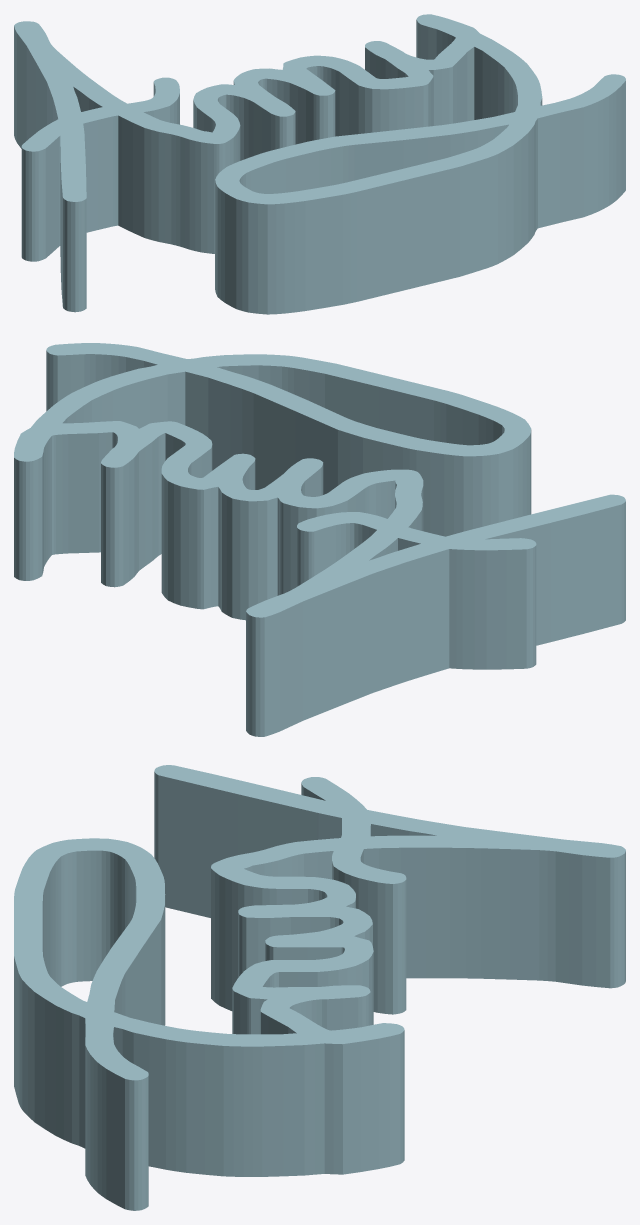
Rendered from Epic Kup.glb.
The picture shows the model from 3 angles, top to bottom: view 1: azimuth 30°, elevation 25°; view 2: azimuth 150°, elevation 25°; view 3: azimuth 270°, elevation 25°; orthographic projection. The views are drawn at different scales.
Parts seen in each view (by area): view 1: Mesh_Mesh_head_geo.001_lambert2SG.001; view 2: Mesh_Mesh_head_geo.001_lambert2SG.001; view 3: Mesh_Mesh_head_geo.001_lambert2SG.001.
Part boxes in pixels (box(x1,y1,x2,y2)): Mesh_Mesh_head_geo.001_lambert2SG.001: box(14, 14, 625, 314); Mesh_Mesh_head_geo.001_lambert2SG.001: box(14, 343, 625, 736); Mesh_Mesh_head_geo.001_lambert2SG.001: box(14, 765, 625, 1210).
Bounding box in the file's own units: 51.85 × 10 × 42.51.
